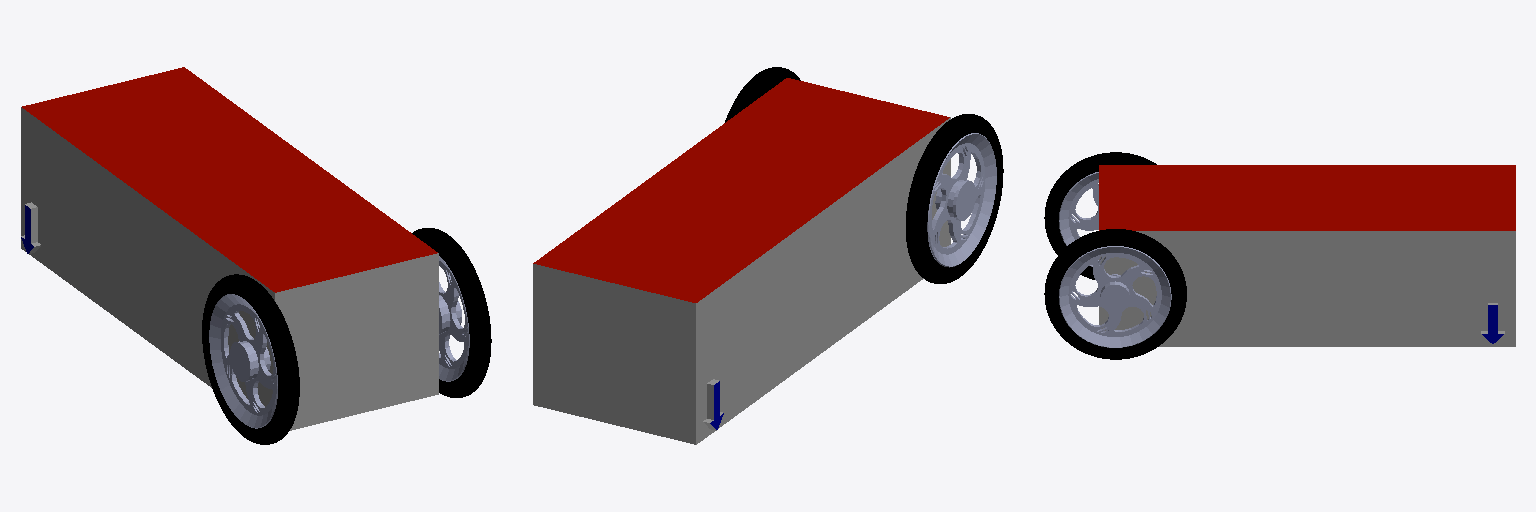
robot.urdf — threeDOF:
<?xml version="1.0" ?>
<!-- @file Krang.urdf -->
<!-- @author [author] -->
<!-- @date May 10, 2013 -->
<!-- @brief This file contains the .urdf definition for Krang. -->
<!-- NOTE: The center of mass locations are taken from the MassTable by summing up the -->
<!-- individual part values for the sections (which correspond to nodes here). -->
<!-- TODO: Set the center of mass locations -->
<!-- TODO: Set the correct masses. Note that the dae models have the brackets divided in two and -->
<!-- connected to the middle motor for which we do not have measurements. -->
<!-- NOTE: The bounding box values are taken by finding the min and max values of the dae files. -->

<robot name="threeDOF">

	<!-- ======================================================================================================== -->
	<!-- ============================================== Links =================================================== -->
	<!-- ======================================================================================================== -->

	<link name = "LWheel"> 
	    <inertial>
	      <mass value="0.5"/>
	      <inertia ixx="0.005" ixy="0" ixz="0" iyy="0.0025" iyz="0" izz="0.0025"/>
	      <origin xyz="0 0 0"/>
	    </inertial>
		<visual> 
			<geometry> 
				<mesh filename="../scenes/Base/newwheel_super_res.dae" /> 
			</geometry> 
		</visual> 
        <soft_shape>
            <total_mass>0.5</total_mass>
            <geometry>
                <mesh filename="../scenes/Base/newwheel_super_res.dae" />
            </geometry>
			<kv>500.0</kv>
			<ke>0.0</ke>
			<damp>5.0</damp>
        </soft_shape>		
		<collision> 
			<geometry> 
				<mesh filename="../scenes/Base/newwheel_super_res.dae" />
                                <!--sphere radius="0.265"/-->
			 </geometry> 
		</collision> 
	</link>

	<link name = "RWheel"> 
	    <inertial>
	      <mass value="0.5"/>
	      <inertia ixx="0.005" ixy="0" ixz="0" iyy="0.0025" iyz="0" izz="0.0025"/>
	      <origin xyz="0 0 0"/>
	    </inertial>
		<visual> 
			<geometry> 
				<mesh filename="../scenes/Base/newwheel_super_res.dae" />
			</geometry> 
		</visual> 
        <soft_shape>
            <total_mass>0.5</total_mass>
            <geometry>
                <mesh filename="../scenes/Base/newwheel_super_res.dae" />
            </geometry>
			<kv>500.0</kv>
			<ke>0.0</ke>
			<damp>5.0</damp>
        </soft_shape>		
		<collision> 
			<geometry> 
				<mesh filename="../scenes/Base/newwheel_super_res.dae" /> 
                                <!--sphere radius="0.265"/-->
			</geometry> 
		</collision> 
	</link>

	<link name = "Base"> 
    	<inertial>
      			<mass value="2"/>
      			<inertia ixx="26" ixy="2.45462e-05" ixz="0.00713022" iyy="0.0832724" iyz="-0.00131733" izz="0.086493"/>
      			<origin xyz="0 0.8 0" />
    		</inertial> 
		<visual> 
			<geometry> 
				<mesh filename="../scenes/BaseLink.dae" /> 
			</geometry> 
		</visual> 
		<!--collision> 
			<geometry> 
				<mesh filename="../scenes/BaseLink_Short.dae" />
			</geometry> 
		</collision--> 
	</link>

	<!-- ======================================================================================================== -->
	<!-- ============================================ Joints ==================================================== -->
	<!-- ======================================================================================================== -->

	<joint name="JLWheel" type="revolute"> 
		<parent link="Base" /> <child link="LWheel" />
		<origin xyz = "-0.34 0.00 -0.0" rpy="0 0 0" />
		<axis xyz="-1 0 0" /> 
		<limit effort="1000" lower="-10000000000000000" upper="10000000000000000" velocity="10000000000000000" />
	</joint>

	<joint name="JRWheel" type="revolute"> 
		<parent link="Base" /> <child link="RWheel" />
		<origin xyz = "0.34 -0.00 -0.0" rpy="0 0 0" />
		<axis xyz="-1 0 0" /> 
		<limit effort="1000" lower="-10000000000000000" upper="10000000000000000" velocity="10000000000000000" />
	</joint>


</robot>

--- Facts derived from the render (not from the file) ---
Views: 3 orthographic renders of the robot side by side, from view 1: azimuth 30°, elevation 25°; view 2: azimuth 150°, elevation 25°; view 3: azimuth 270°, elevation 25°.
Model threeDOF with 3 links and 2 joints (2 revolute), rooted at Base, posed all joints at 0.
Visible links, largest first — view 1: Base, LWheel, RWheel; view 2: Base, LWheel, RWheel; view 3: Base, RWheel, LWheel.
Link boxes in pixels (x1,y1,x2,y2): Base: [21, 67, 438, 430]; LWheel: [202, 274, 299, 444]; RWheel: [412, 228, 491, 397]; Base: [533, 78, 950, 444]; LWheel: [906, 114, 1003, 283]; RWheel: [725, 67, 800, 122]; Base: [1099, 165, 1515, 346]; RWheel: [1044, 229, 1186, 359]; LWheel: [1044, 152, 1156, 279].
Bounding box of the posed robot: 0.7565 × 1.77 × 0.535 m (x, y, z).
3 mesh visuals loaded from 2 distinct referenced files (2 Collada DAE).